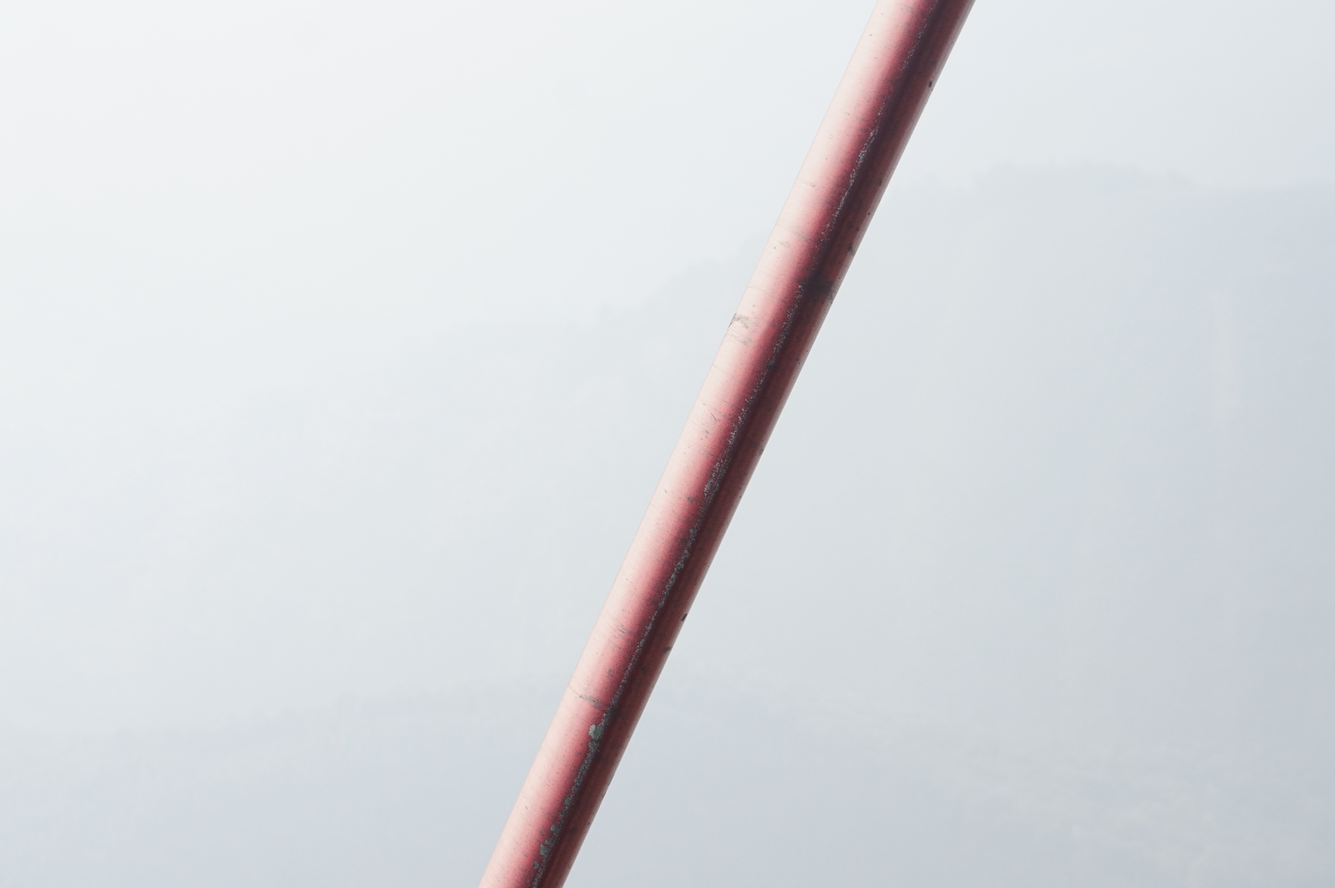Damage: (528, 690, 630, 887)
